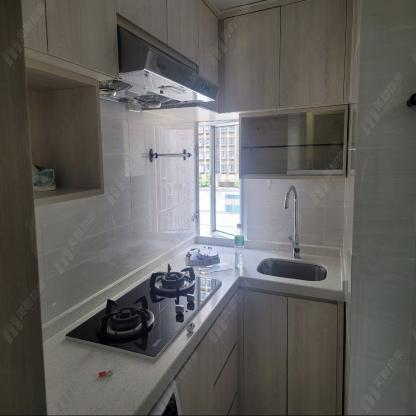Exhaust Hood: (99, 22, 219, 111)
Faucet: (280, 182, 307, 257)
Stove: (47, 261, 239, 377)
